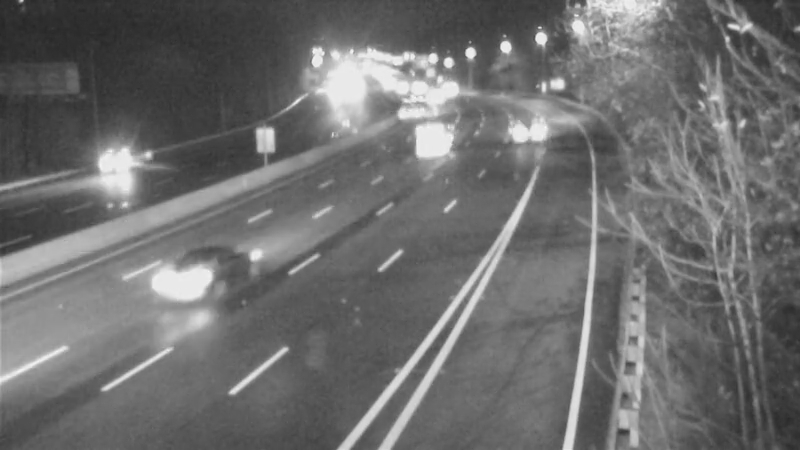vehicle: (153, 240, 233, 320), (65, 119, 145, 199), (375, 63, 425, 113), (396, 62, 446, 112), (409, 72, 459, 122), (390, 86, 440, 136), (408, 110, 458, 160), (495, 105, 545, 155)
